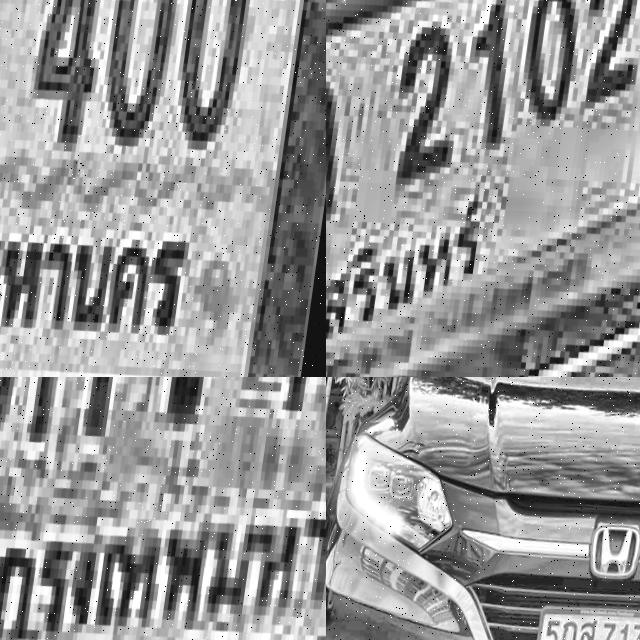license-plate: (0, 0, 326, 377), (326, 0, 640, 377), (0, 377, 326, 640), (527, 600, 640, 640)
